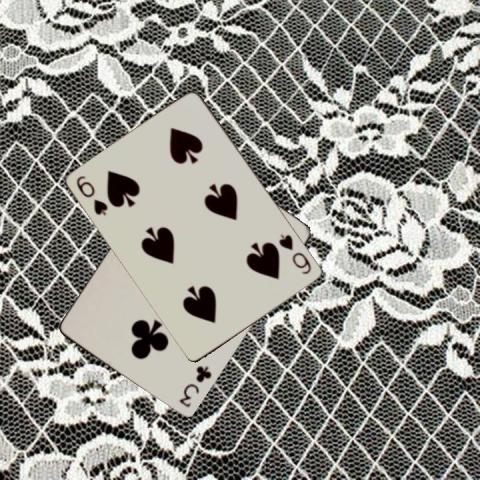3c: (176, 363, 213, 409)
6s: (276, 231, 313, 276), (73, 173, 110, 217)
